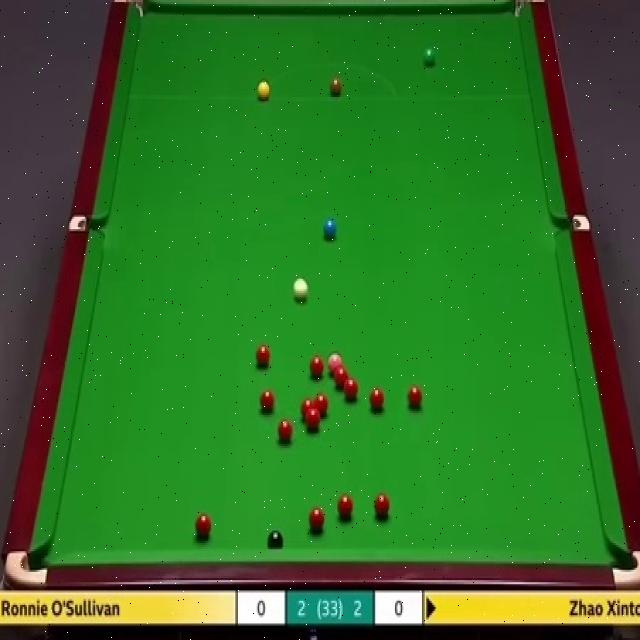black-ball: (269, 530, 287, 549)
blue-ball: (323, 220, 337, 237)
brown-ball: (330, 78, 343, 101)
green-ball: (424, 48, 434, 63)
pink-ball: (328, 353, 342, 373)
red-ball: (308, 507, 326, 533), (314, 393, 331, 420), (194, 513, 212, 538), (338, 491, 353, 520), (405, 386, 424, 408), (277, 418, 293, 442), (375, 494, 390, 518), (259, 388, 274, 412), (256, 344, 270, 369), (306, 409, 321, 431), (344, 380, 357, 402), (308, 356, 322, 376), (300, 399, 314, 419), (334, 366, 348, 386), (369, 390, 384, 408)
white-ball: (293, 278, 310, 304)
yellow-ball: (257, 80, 270, 102)
